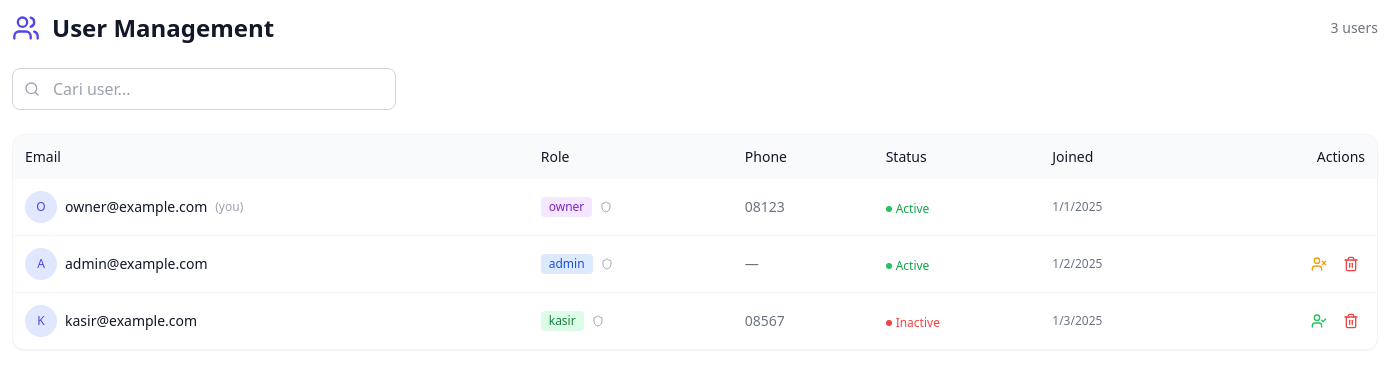
Test case: UsersPage › shows empty state when no users match search
This screenshot has width=1390, height=367.
Expected: the text "owner@example.com" is shown, [65,197,207,217]
In the field with placeholder "Cari user...": coordinates (204, 89) [12,68,396,110], type "nonexistent"
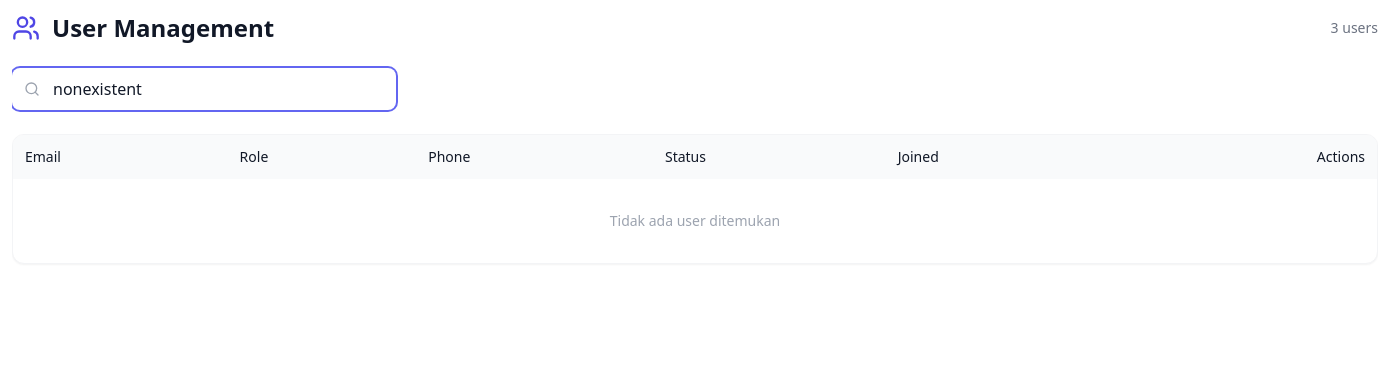
Now the text "Tidak ada user ditemukan" is shown, box [13,179,1377,263]
